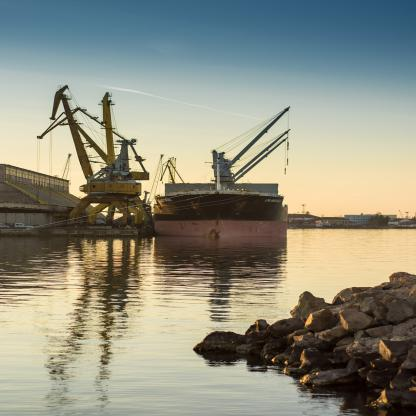Bulk Carrier: (153, 106, 290, 238)
